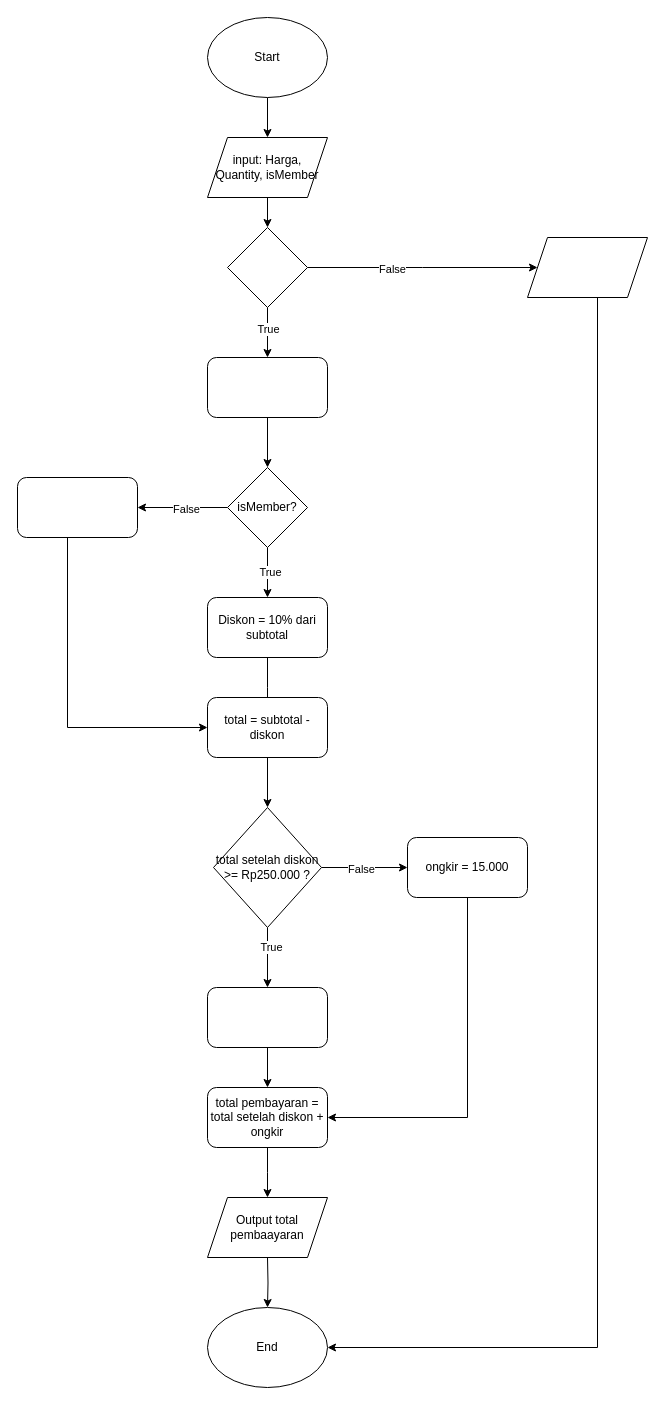
This 665x1405 diagram has some shape labels left out. The shapes that lost their labels are listed below. From the top down, each one's box as (x1, y1, x2, y2) in pixels, then its label:
(226, 226, 308, 308): Input Valid ?
(526, 236, 648, 298): kasih pesan error "Input tidak valid"
(206, 356, 328, 418): hitung subtotal : harga * quantity
(16, 476, 138, 538): Diskon = 0
(206, 986, 328, 1048): ongkir = Rp 0
